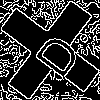D: (25, 25, 84, 81)
